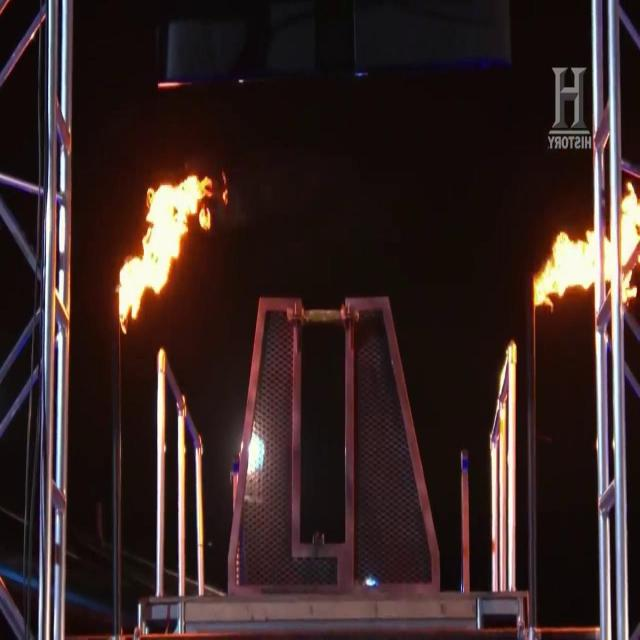Fire: (96, 159, 234, 346), (520, 188, 638, 324)
